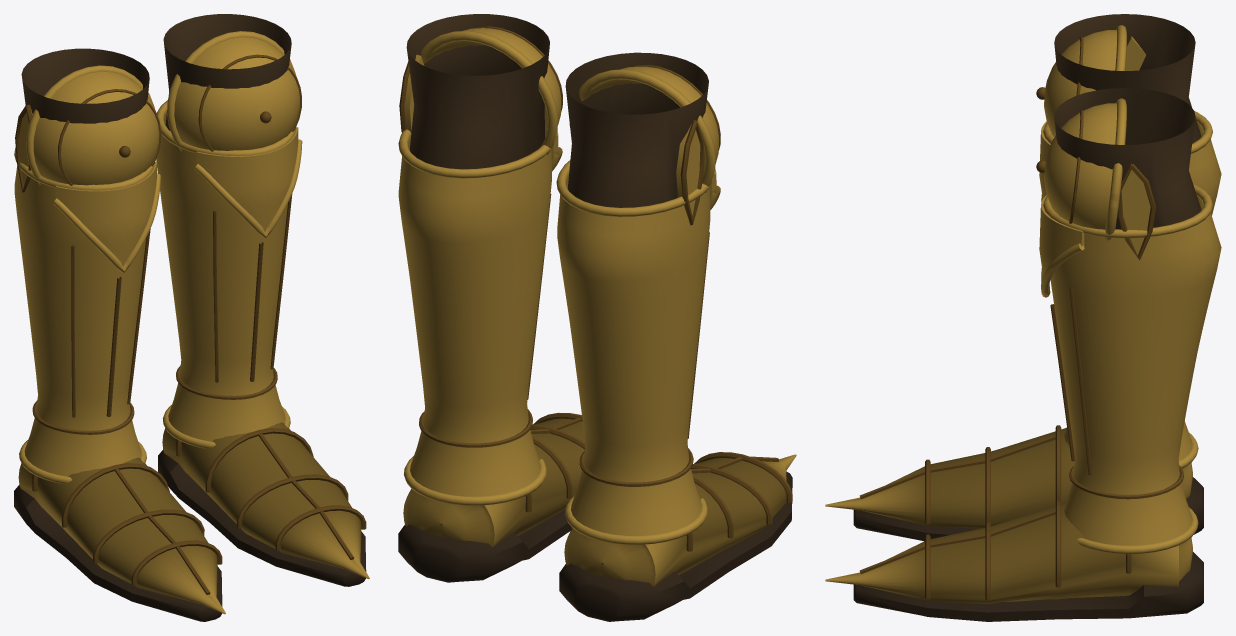
Rendered from f_celestial.glb.
3 views of the same model, side by side, from view 1: azimuth 30°, elevation 25°; view 2: azimuth 150°, elevation 25°; view 3: azimuth 270°, elevation 25° (orthographic). The views are drawn at different scales.
Visible parts, largest first — view 1: LegR_Boot, LegL_Boot, LegR_BootFoot, LegL_BootFoot; view 2: LegL_Boot, LegR_Boot, LegR_BootFoot, LegL_BootFoot; view 3: LegL_Boot, LegL_BootFoot, LegR_BootFoot, LegR_Boot.
Part boxes in pixels (<box>): LegR_Boot: <box>14,48,161,483</box>; LegL_Boot: <box>156,14,302,448</box>; LegR_BootFoot: <box>14,457,225,621</box>; LegL_BootFoot: <box>158,422,369,586</box>; LegL_Boot: <box>398,14,562,505</box>; LegR_Boot: <box>556,52,720,544</box>; LegR_BootFoot: <box>559,452,796,621</box>; LegL_BootFoot: <box>398,412,585,582</box>; LegL_Boot: <box>1036,88,1221,554</box>; LegL_BootFoot: <box>825,500,1203,621</box>; LegR_BootFoot: <box>825,425,1203,541</box>; LegR_Boot: <box>1036,14,1221,468</box>.
Bounding box in the file's own units: 0.3648 × 0.5954 × 0.4338.
